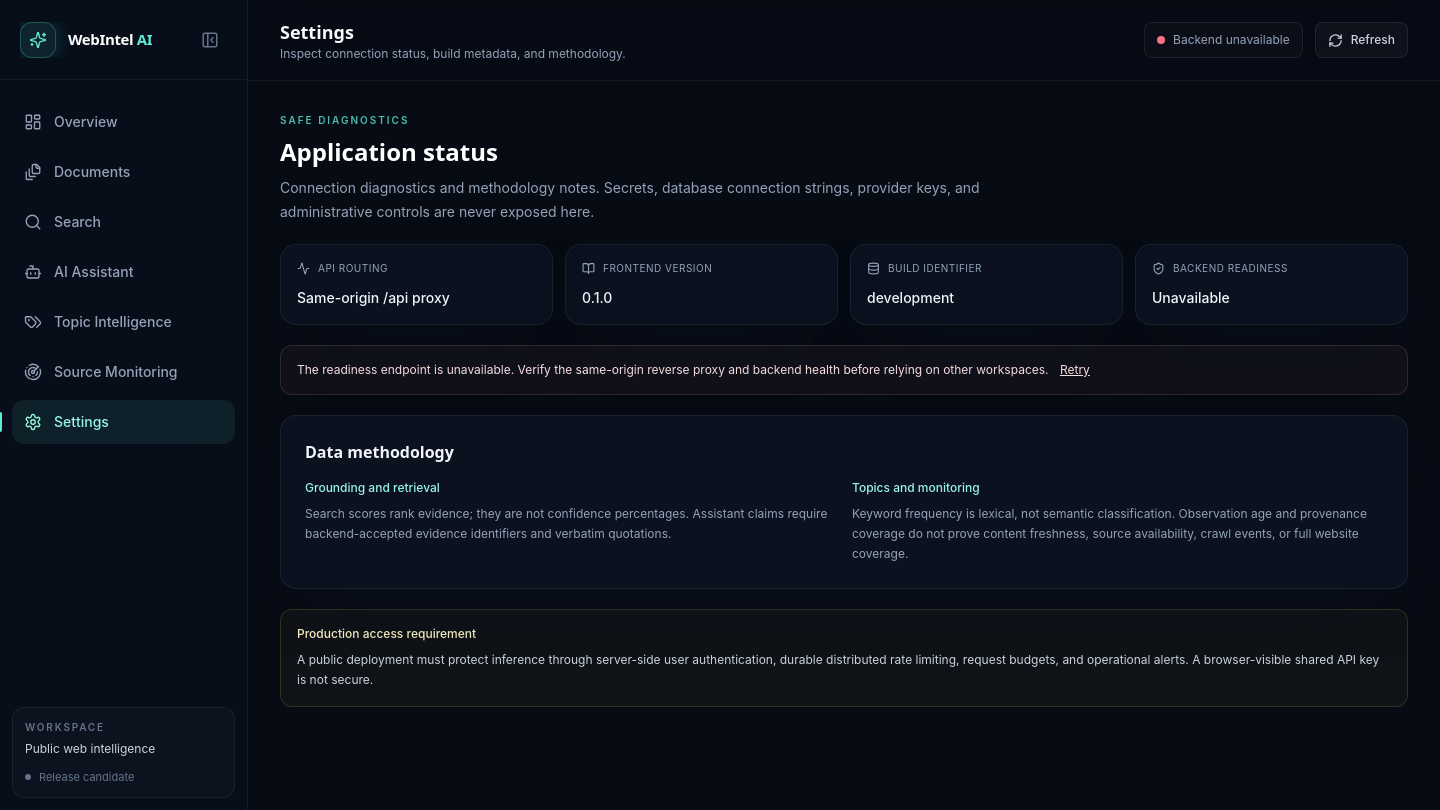
it: SettingsPage › supports retrying a failed readiness check
Expected: the 2nd message shows "readiness endpoint is unavailable", [297,362,1052,377]
Click the button "Retry". click: (1075, 370)
box: [1060,362,1090,378]
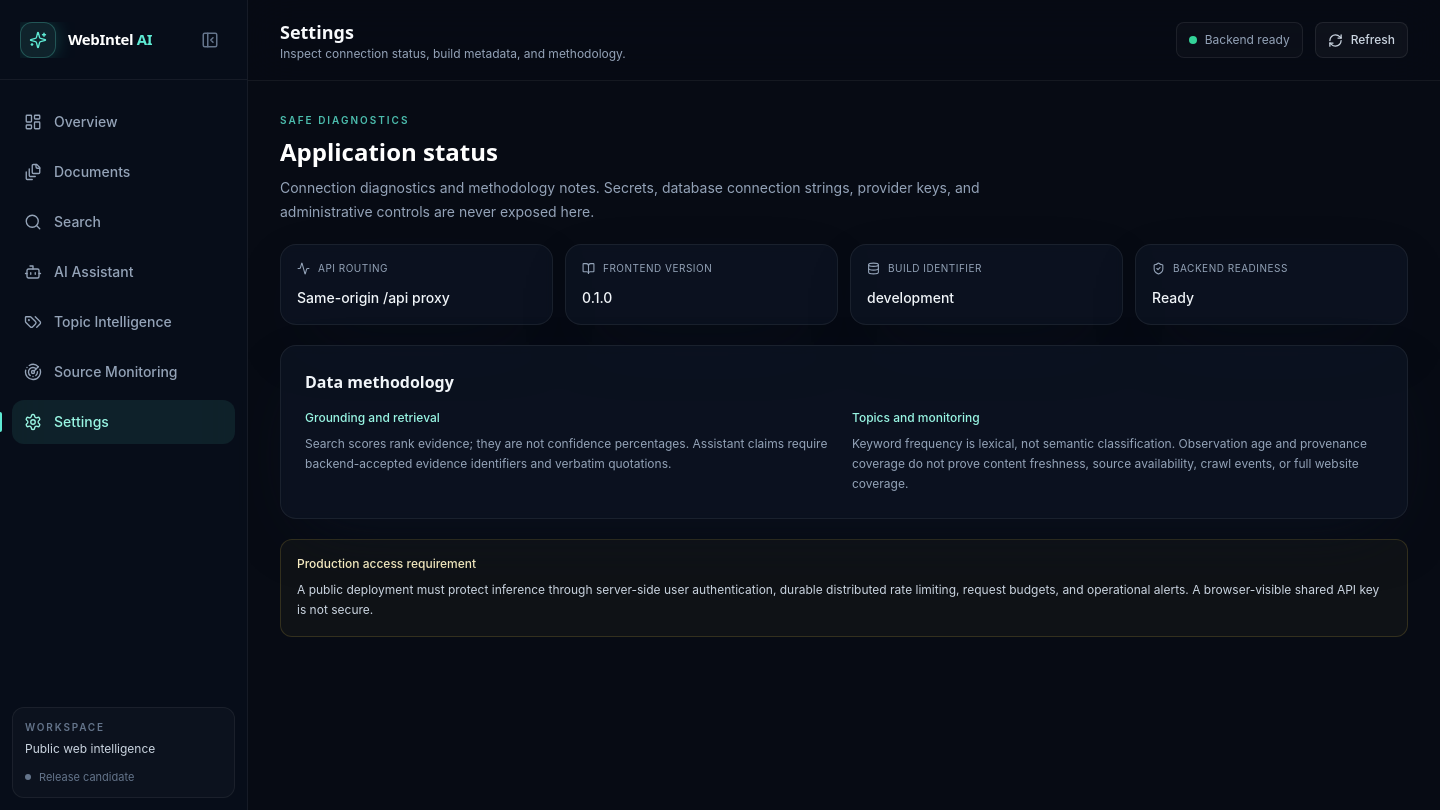
Expected: the text "Ready" is shown, [1152,289,1194,306]
